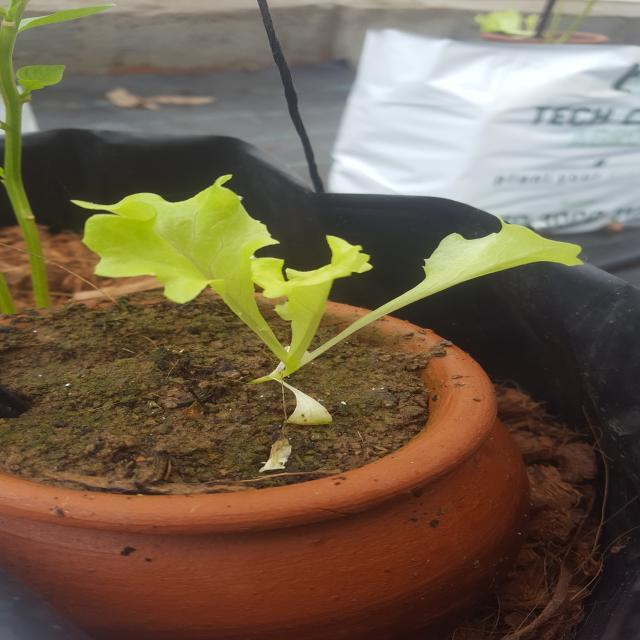Lettuce-Not-Ready-to-Harvest: (72, 176, 587, 411)
